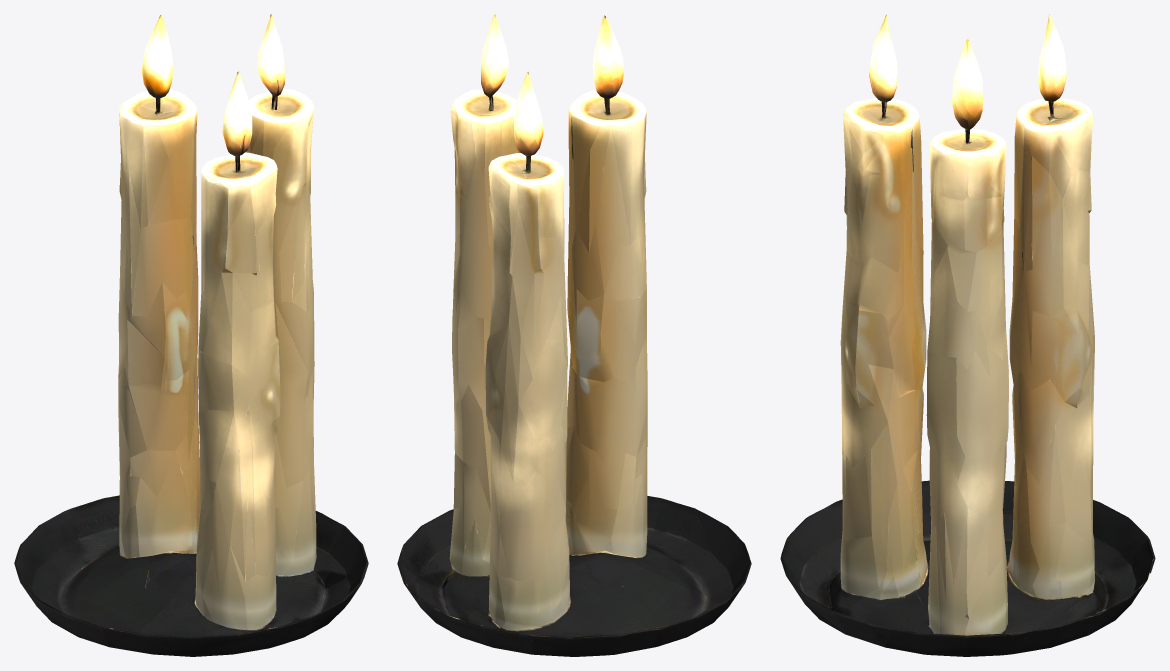
Rendered from candles.glb.
The picture shows the model from 3 angles, left to right: view 1: azimuth 30°, elevation 25°; view 2: azimuth 150°, elevation 25°; view 3: azimuth 270°, elevation 25°; orthographic projection. The views are drawn at different scales.
Size of the model in its own units: 0.1699 by 0.3 by 0.17.
Materials: 1 (1 with a texture image).
